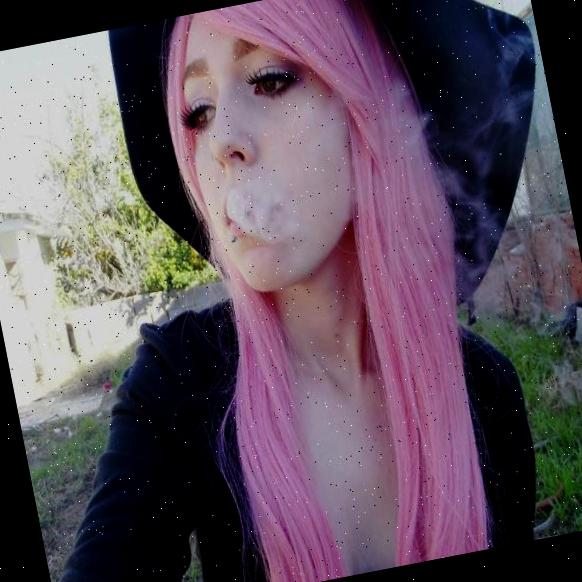smoke: (217, 176, 294, 247)
